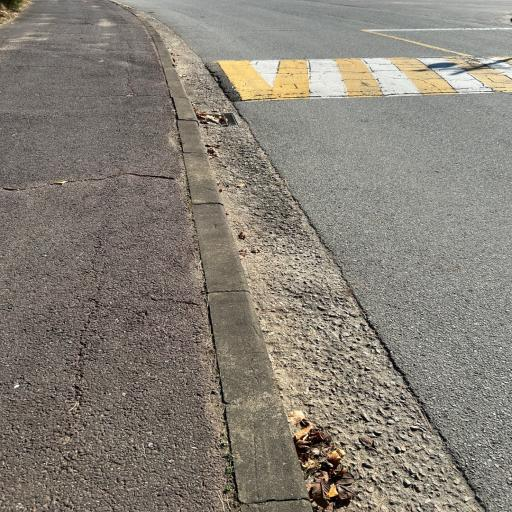debris: (212, 113, 229, 118), (198, 113, 208, 121)
drain: (198, 113, 237, 125)
